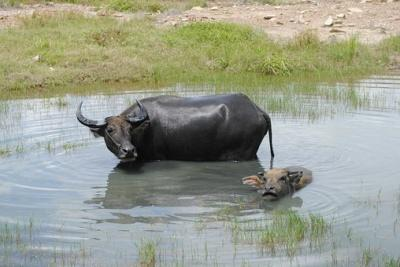buffalo: (76, 93, 274, 162), (242, 167, 311, 200)
